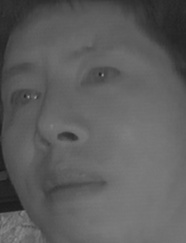eye: (79, 65, 122, 94), (5, 87, 42, 113)
mouth: (38, 166, 108, 213)
